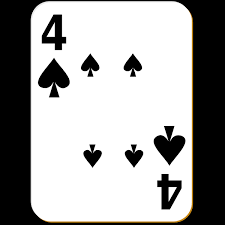four of spades: (31, 2, 194, 219)
